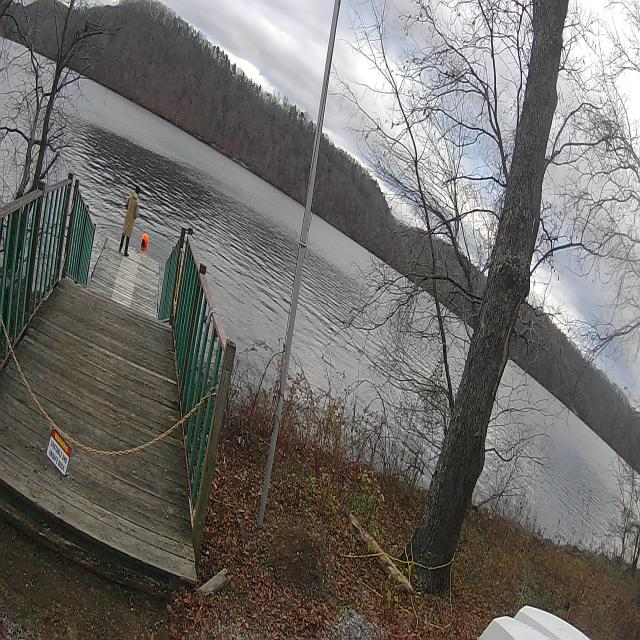Buoy: (140, 233, 149, 250)
